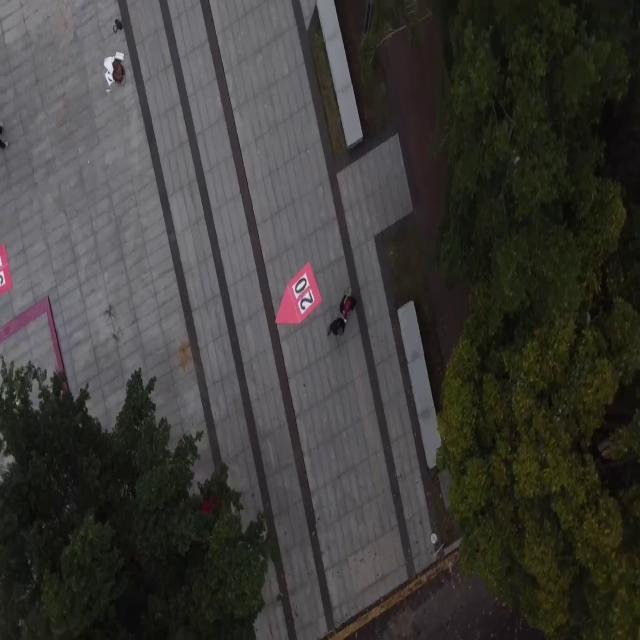-sign-: (274, 260, 322, 326), (0, 244, 13, 298)
